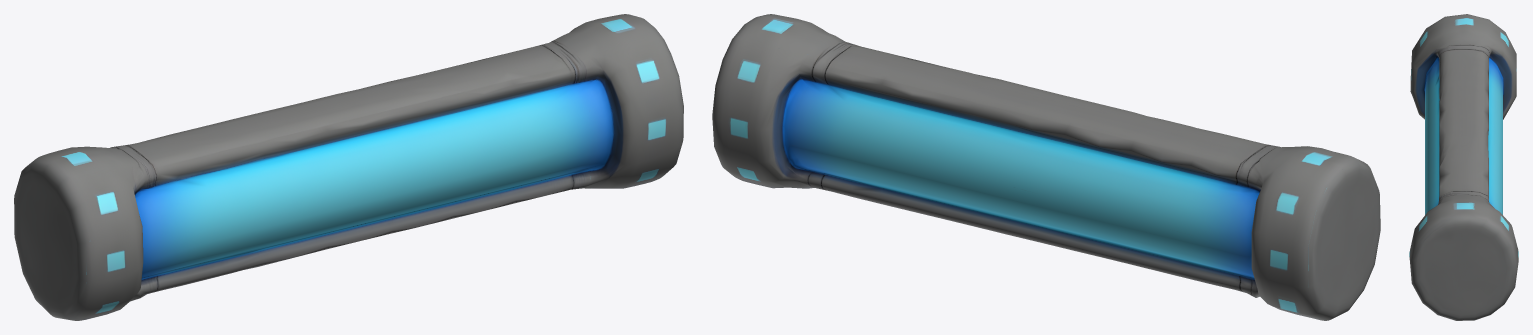
File: L - Wall_texture.fbx
3 views of the same model, side by side, from view 1: azimuth 30°, elevation 25°; view 2: azimuth 150°, elevation 25°; view 3: azimuth 270°, elevation 25° (orthographic). The views are drawn at different scales.
Visible parts, largest first — view 1: Mesh0; view 2: Mesh0; view 3: Mesh0.
Boxes of the visible parts, bbox=[...] form: Mesh0: bbox=[14, 14, 683, 320]; Mesh0: bbox=[712, 14, 1380, 320]; Mesh0: bbox=[1409, 14, 1518, 320].
Size of the model in its own units: 192 by 46.51 by 42.91.
1 material, 1 textured.
